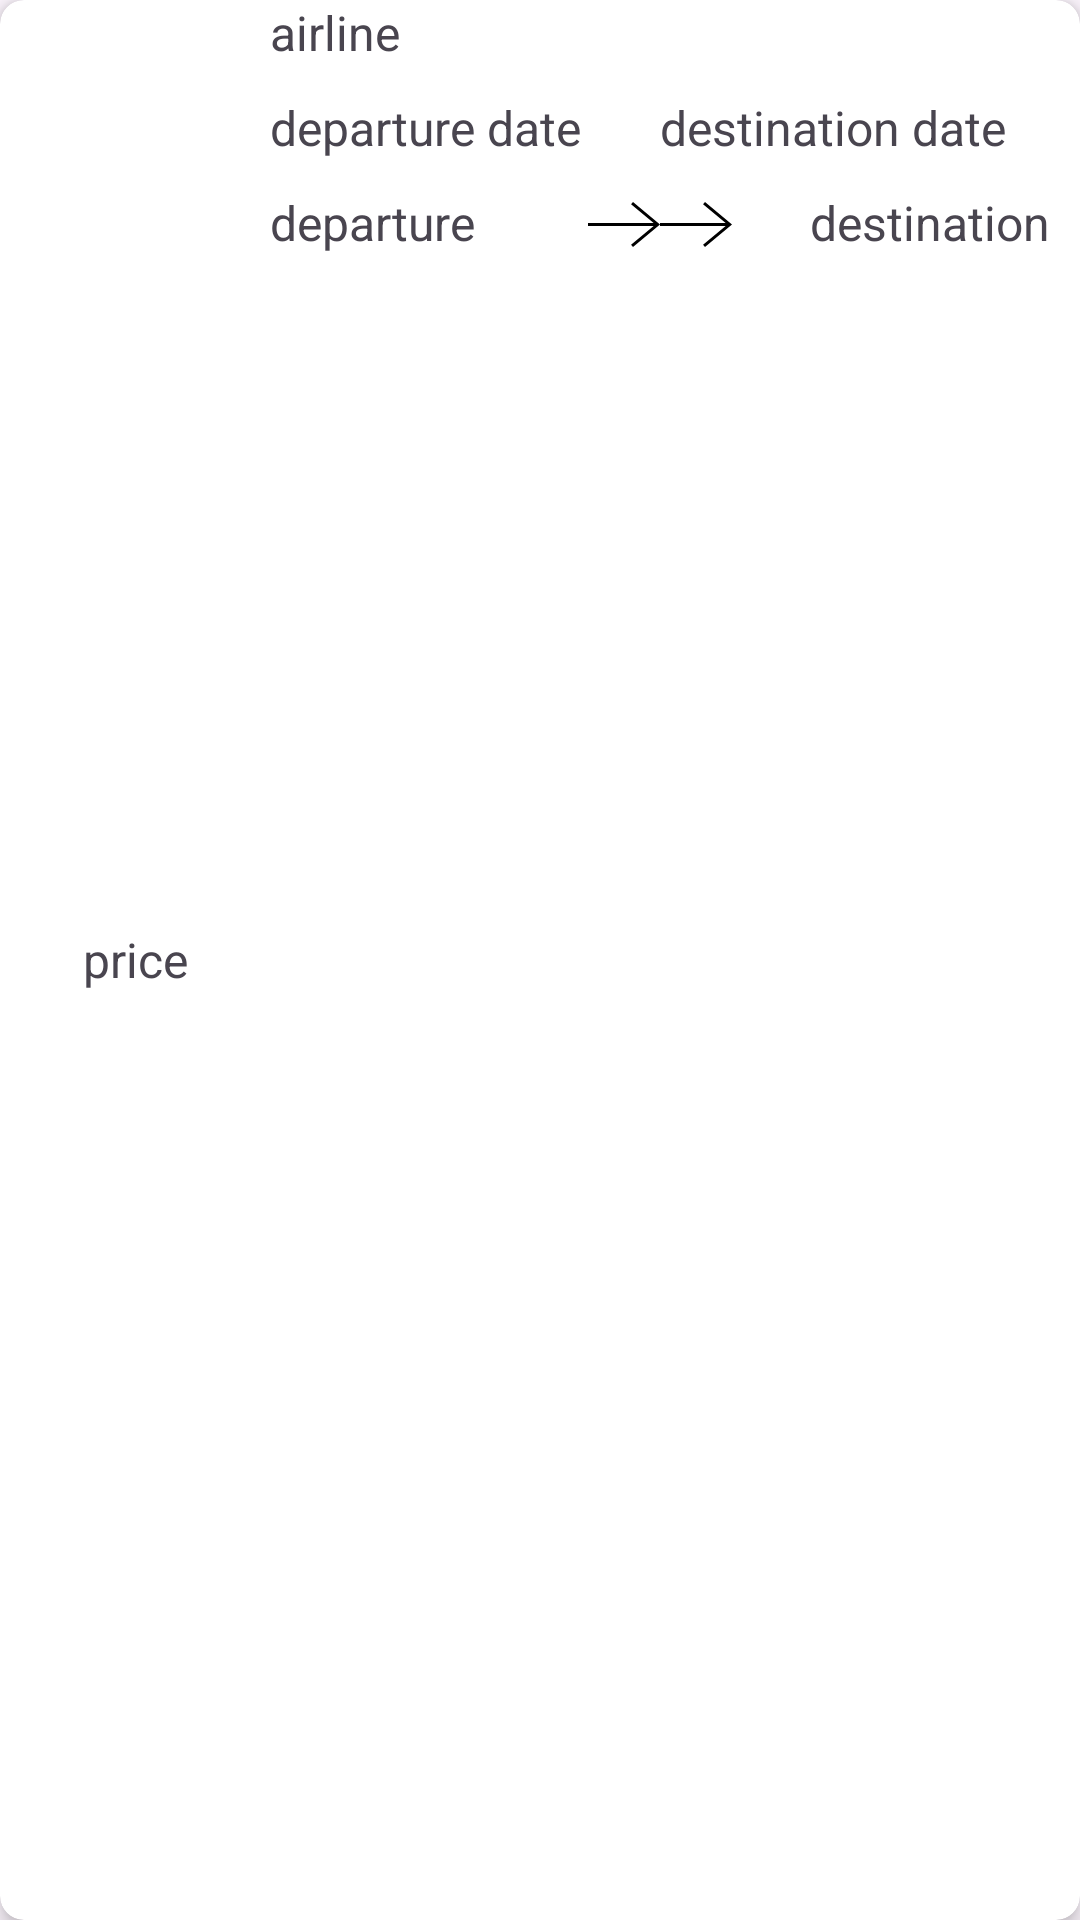

Where to tap for icons on this 1080w x 1920h app screen, as (x,y):
arrow right: (624,224), (696,224)
